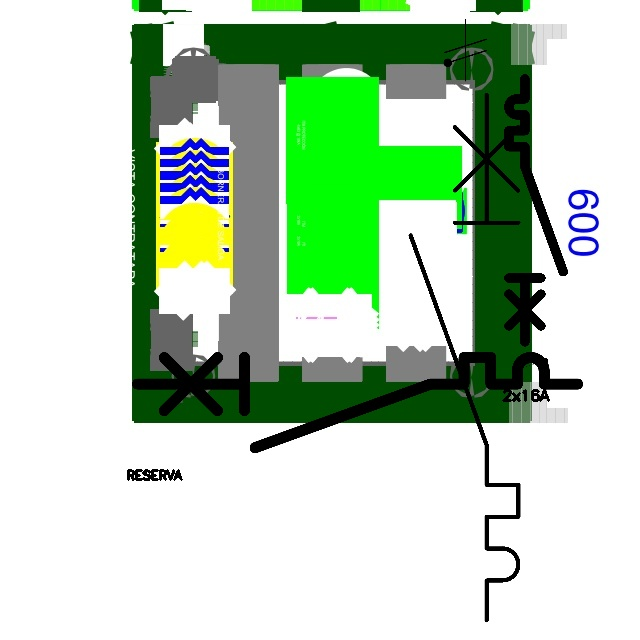interruptor_termomagnetico: (397, 81, 532, 634), (126, 346, 589, 459), (502, 72, 569, 349)
